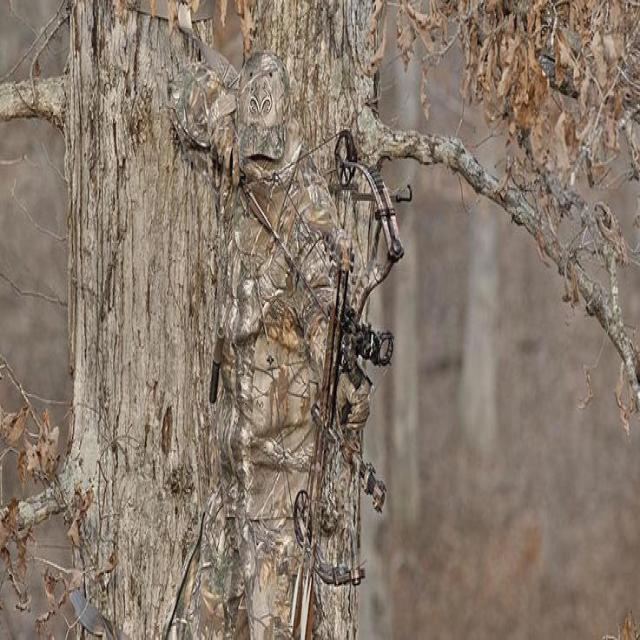Camouflage: (170, 51, 406, 640)
